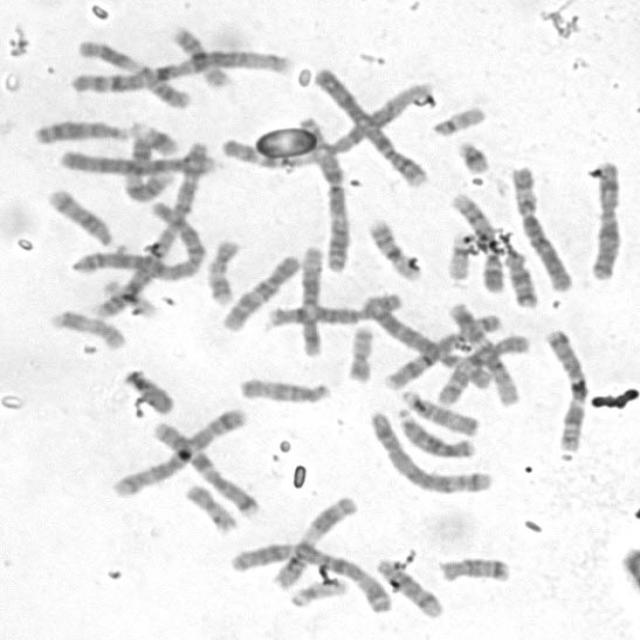A1: (210, 84, 450, 171), (65, 44, 292, 94)
A2: (92, 134, 212, 319), (56, 197, 208, 279)
A3: (223, 535, 394, 614), (295, 111, 352, 274)
B4: (311, 64, 434, 189), (56, 146, 218, 178)
B5: (108, 402, 249, 499), (364, 404, 495, 496)
C10: (431, 330, 530, 405), (218, 250, 303, 333)
C11: (268, 490, 360, 591), (74, 36, 194, 110)
C12: (443, 298, 522, 406), (295, 241, 326, 358)
C6: (357, 289, 498, 391), (506, 160, 576, 292)
C7: (146, 415, 264, 519), (539, 323, 590, 452)
C8: (380, 306, 506, 392), (262, 287, 407, 330)
C9: (446, 188, 506, 294), (118, 122, 180, 205)
D13: (391, 402, 478, 460), (29, 114, 136, 146)
D14: (372, 553, 447, 620), (44, 184, 120, 249)
D15: (396, 384, 484, 438), (235, 372, 334, 404)
E16: (166, 21, 234, 89), (362, 213, 424, 282)
E17: (44, 304, 128, 351), (202, 233, 242, 306)
E18: (434, 551, 513, 584), (500, 247, 540, 309)
F19: (97, 275, 157, 318), (442, 228, 474, 281)
F20: (180, 479, 240, 534), (342, 319, 376, 384)
G21: (134, 118, 182, 156), (452, 136, 494, 175)
G22: (285, 572, 350, 609), (427, 101, 488, 137)
X: (584, 155, 626, 282)
Y: (119, 364, 177, 416)
